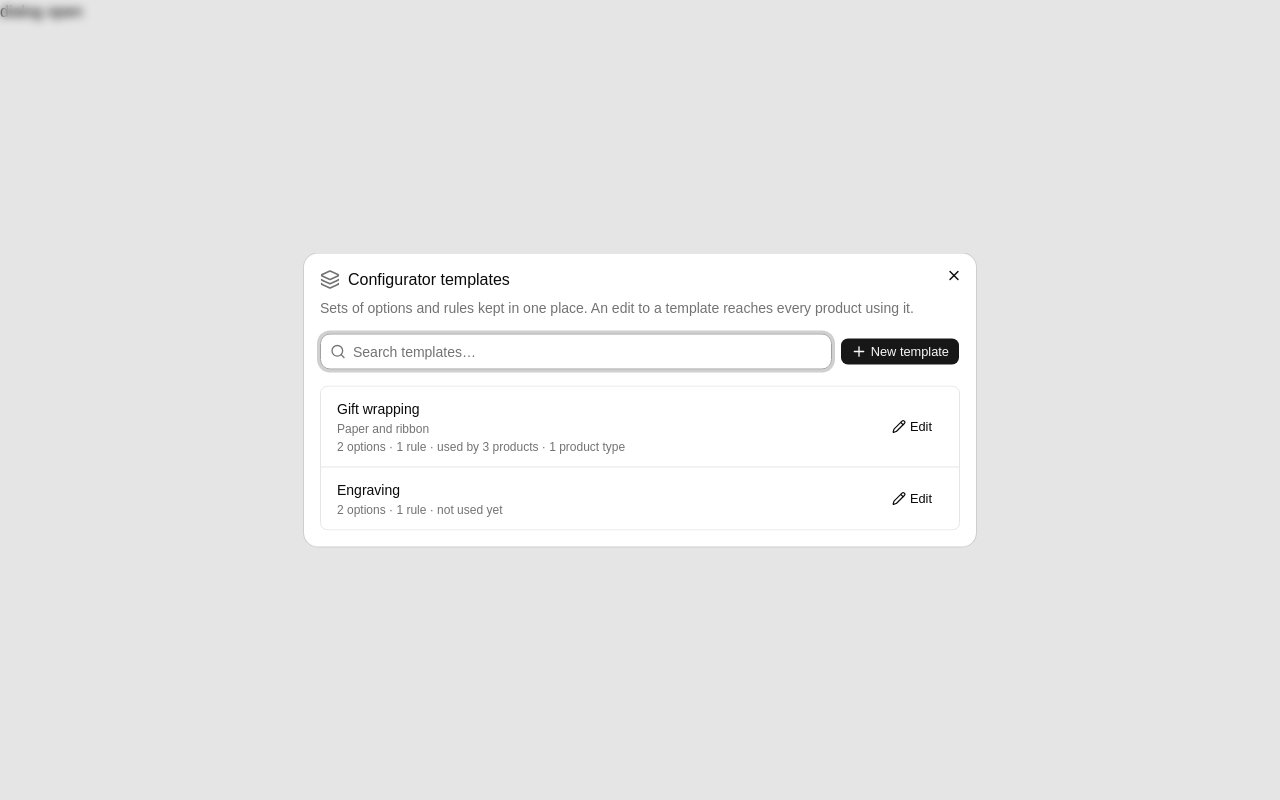
Test: TemplatesDialog › lists each template with what it reaches and finds one by its description
The width and height of the screenshot is (1280, 800).
Expected: the text "Gift wrapping" is shown, [337,400,420,416]
Expected: the text "2 options · 1 rule · used by 3 products · 1 product type" is shown, [337,440,625,454]
In the field labelled "Search templates": (576, 352) [320,334,832,370], type "ribbon"
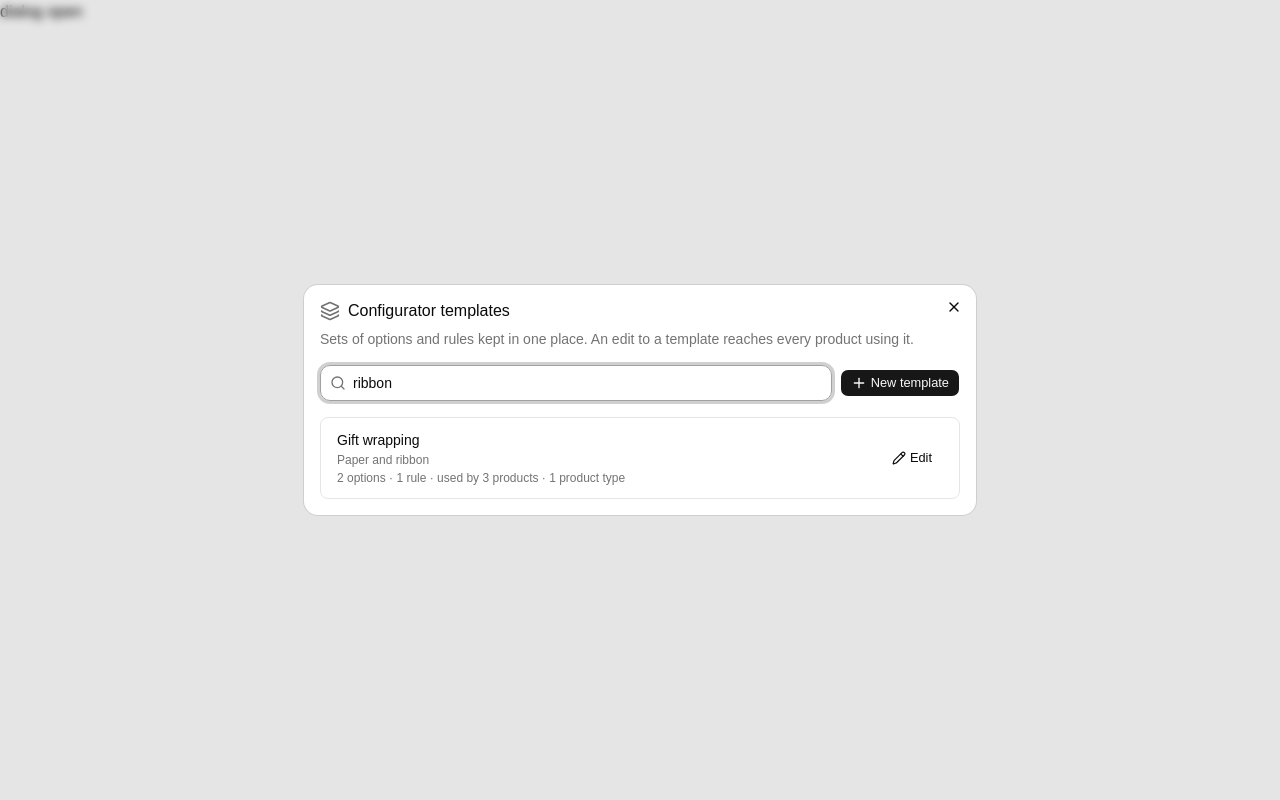
Expected: the number of list items is 1, [321,418,959,498]
Replace the text in the field named "Search templates" with "zebra": (576, 383) [320,365,832,401]
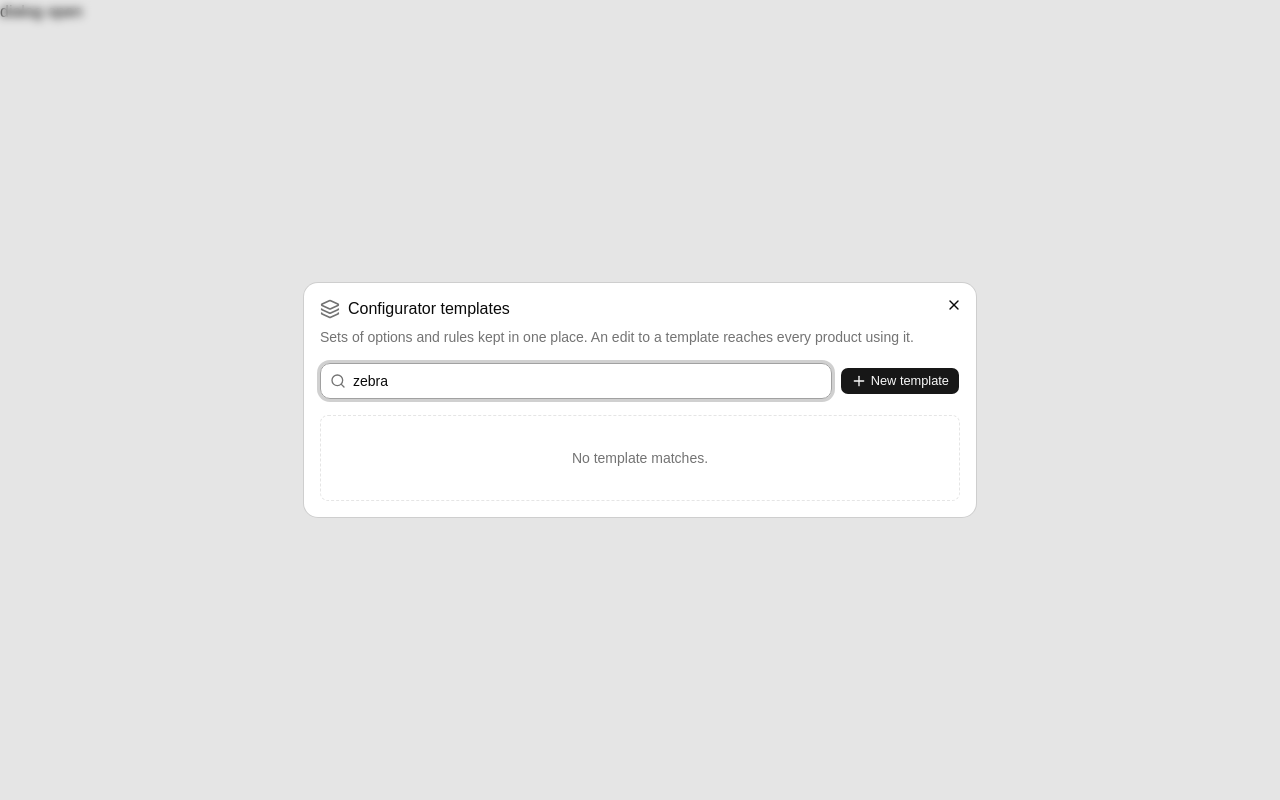
Expected: the text "No template matches." is shown, [320,415,960,501]
